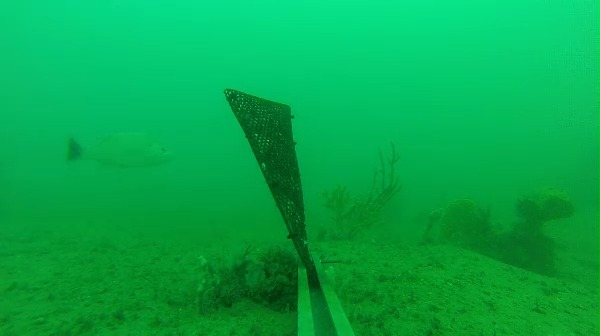fish: (59, 125, 189, 184)
